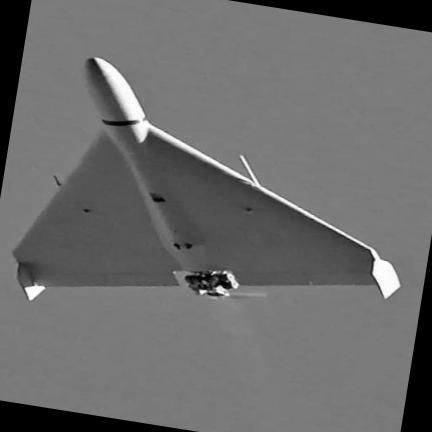Shahed: (13, 57, 400, 299)
